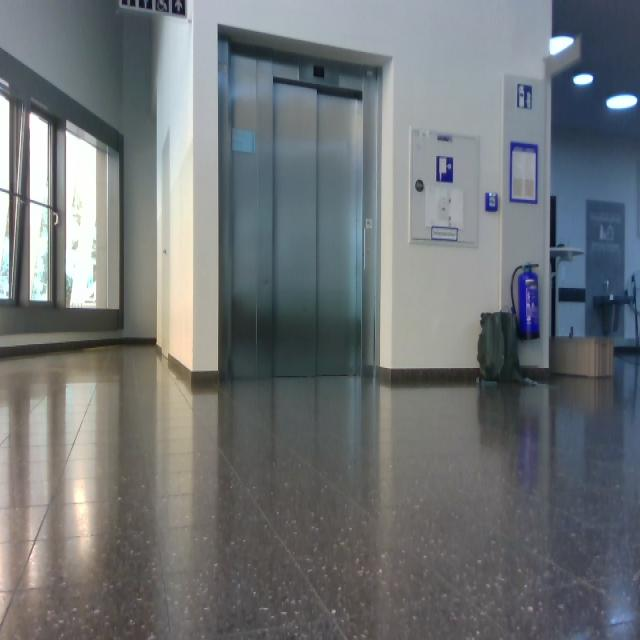door: (220, 41, 382, 381), (272, 76, 364, 378)
fire extinguisher: (511, 262, 540, 340)
light bulb: (606, 93, 638, 110), (549, 36, 574, 56), (573, 73, 594, 86)
tiled floor: (2, 341, 639, 638)
window: (1, 71, 124, 331)
